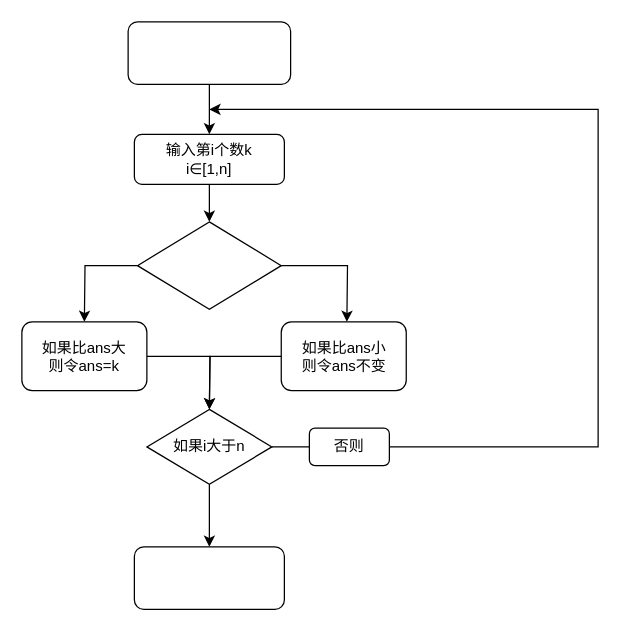
Some shapes in this 630 by 631 pixel diagram are drawn without their labels. The centre of each missing label's shape, as x and y in pixels:
"return 0; 程序结束" belongs at pixel 208 577.
"与历史 最大值ans 进行比较" belongs at pixel 208 265.
"输入n，保证n大于0 （表示输入数字个数）" belongs at pixel 209 52.
